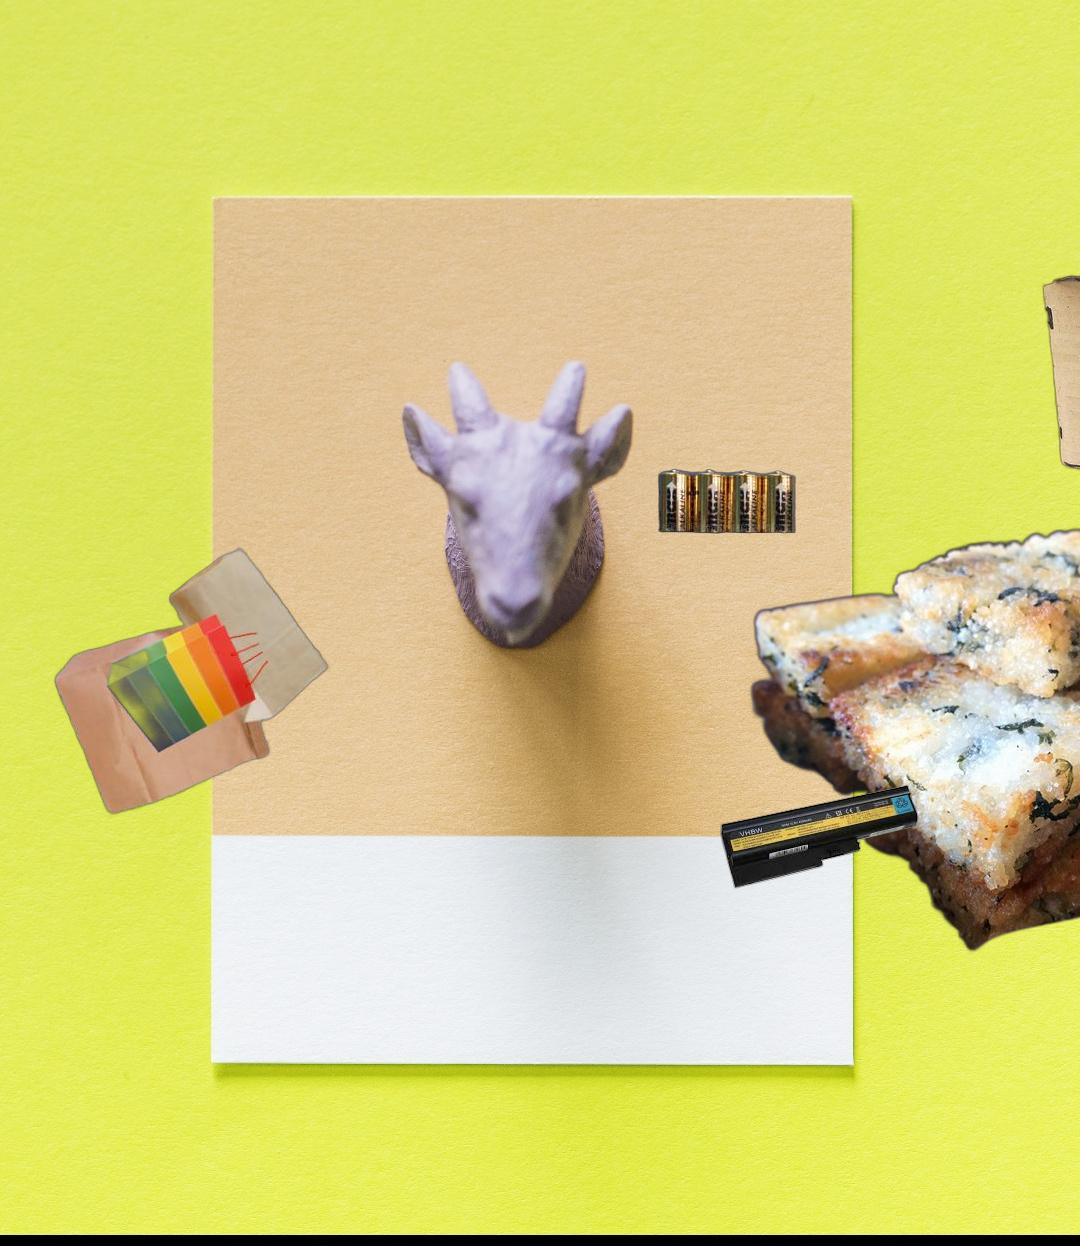battery: (718, 782, 921, 891), (655, 466, 798, 536)
biological: (745, 526, 1080, 955)
paper: (167, 1240, 666, 1246)
paper-bag: (52, 545, 332, 823)
trashbox-cardboard: (1039, 273, 1080, 481)
